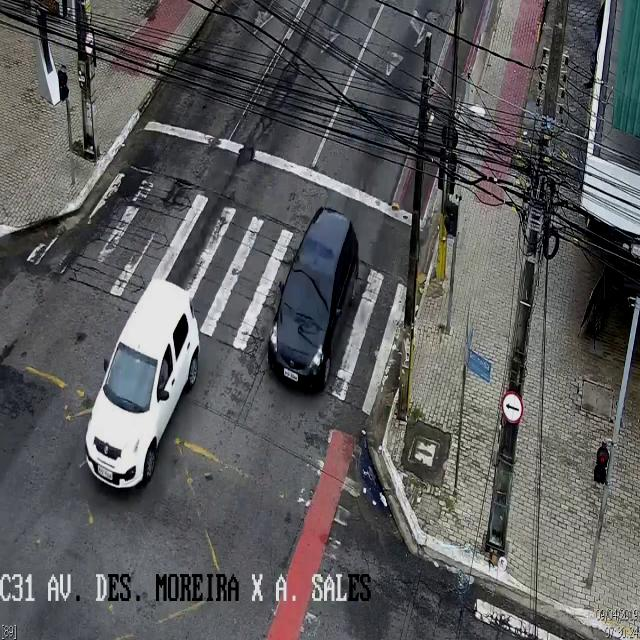Car: (84, 277, 200, 489), (268, 208, 359, 383)
